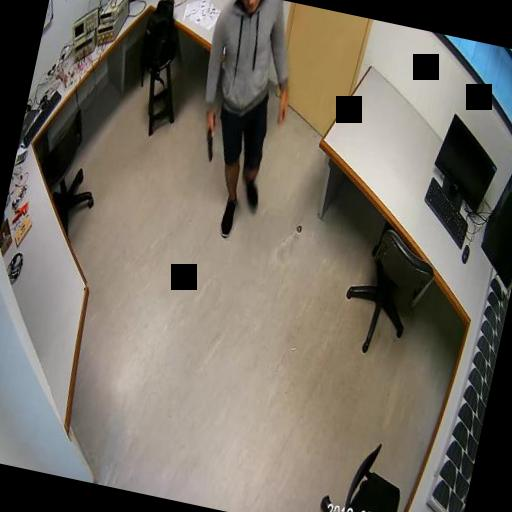Handgun: (198, 112, 220, 160)
